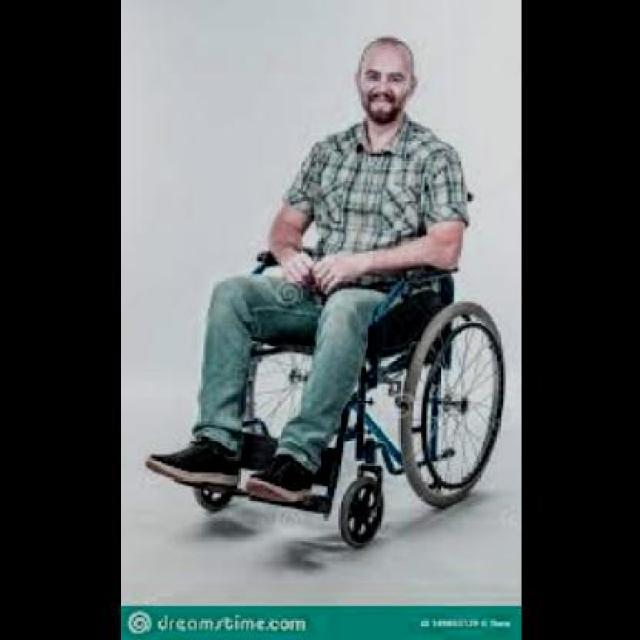wheelchairs: (168, 181, 502, 540)
